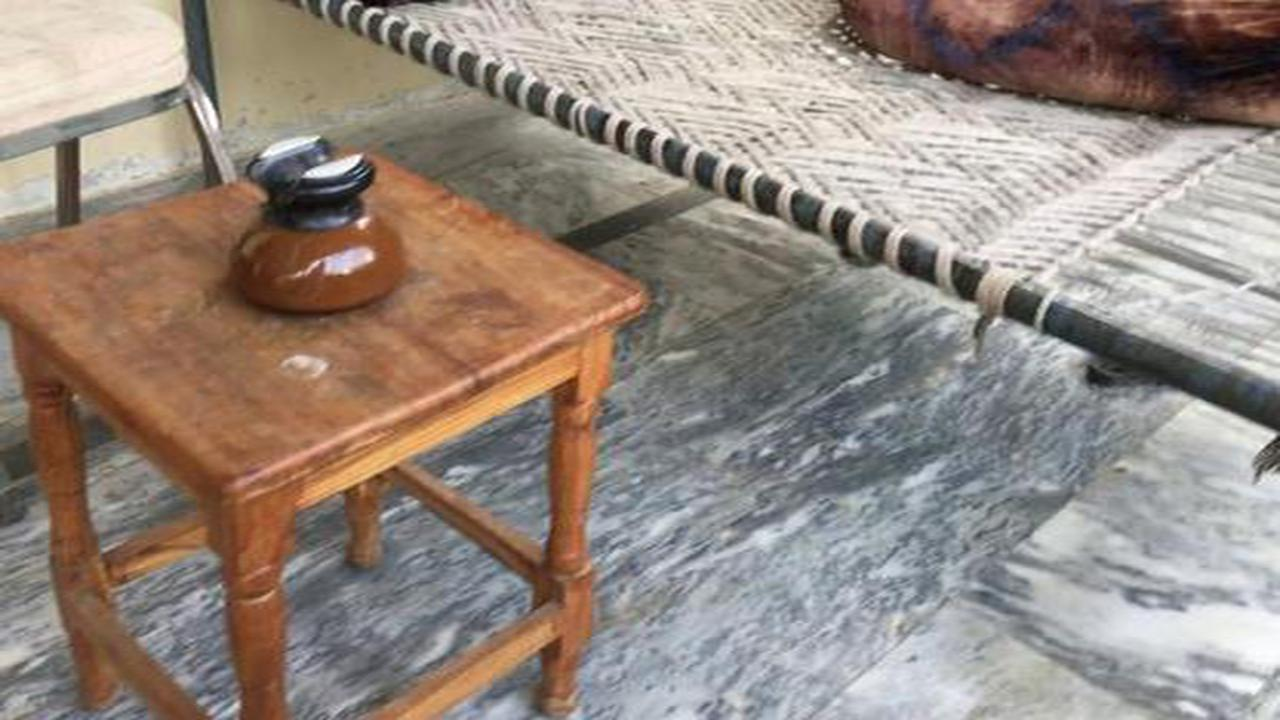insulator_pin: (206, 118, 431, 321)
